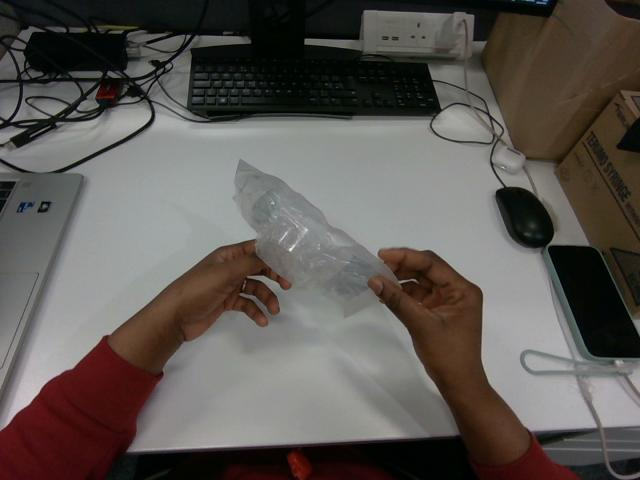gallipot: (234, 160, 398, 316)
